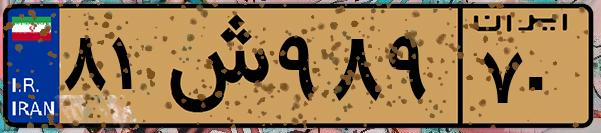0: (525, 38, 570, 115)
1: (110, 28, 158, 98)
7: (475, 38, 525, 113)
8: (330, 28, 385, 110), (57, 26, 110, 100)
9: (270, 28, 330, 110), (385, 28, 445, 110)
ش: (158, 12, 270, 120)
